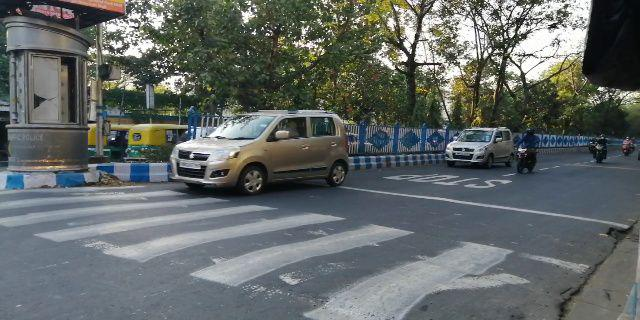Car: (165, 105, 351, 197), (440, 121, 515, 172)
Motorbike: (514, 126, 542, 171), (584, 127, 611, 169)
